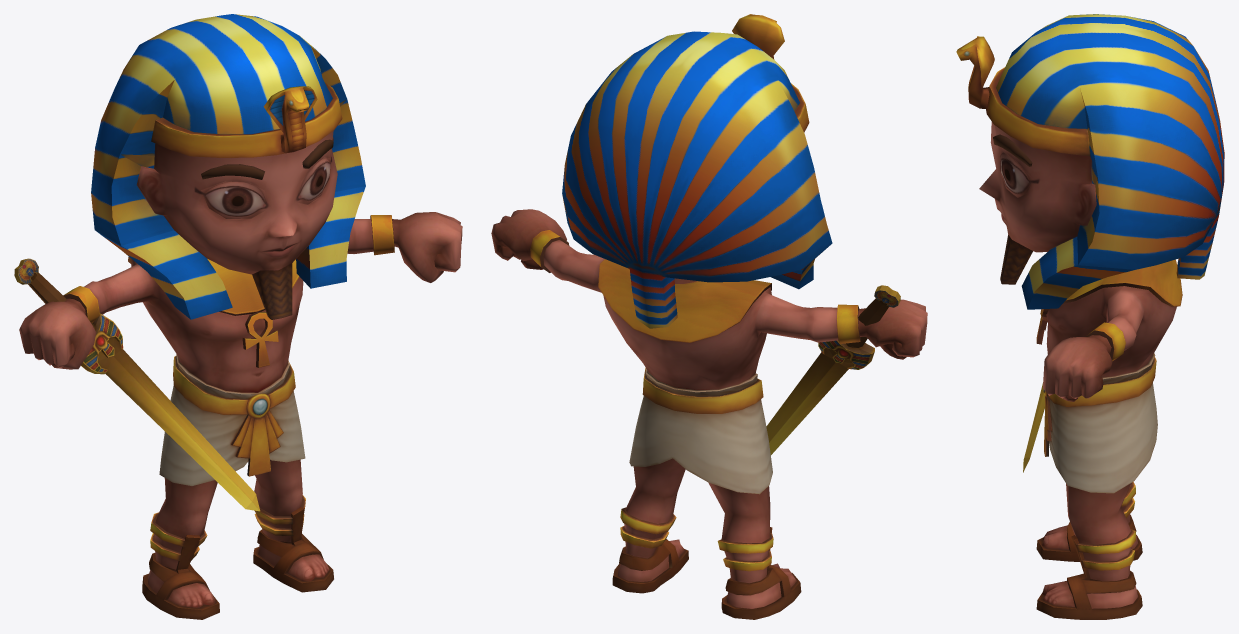
Rendered from egyptian_gltf.gltf.
The picture shows the model from 3 angles, left to right: view 1: azimuth 30°, elevation 25°; view 2: azimuth 150°, elevation 25°; view 3: azimuth 270°, elevation 25°; orthographic projection.
Parts seen in each view (by area): view 1: egyptian_B, sword; view 2: egyptian_B, sword; view 3: egyptian_B, sword.
Boxes of the visible parts, x1=… form: egyptian_B: x1=19, y1=14, x2=462, y2=619; sword: x1=14, y1=258, x2=260, y2=511; egyptian_B: x1=491, y1=14, x2=927, y2=619; sword: x1=766, y1=285, x2=900, y2=454; egyptian_B: x1=956, y1=14, x2=1224, y2=619; sword: x1=1023, y1=383, x2=1044, y2=472.
Size of the model in its own units: 103 by 125 by 54.83.
Materials: 2 (2 with a texture image).
